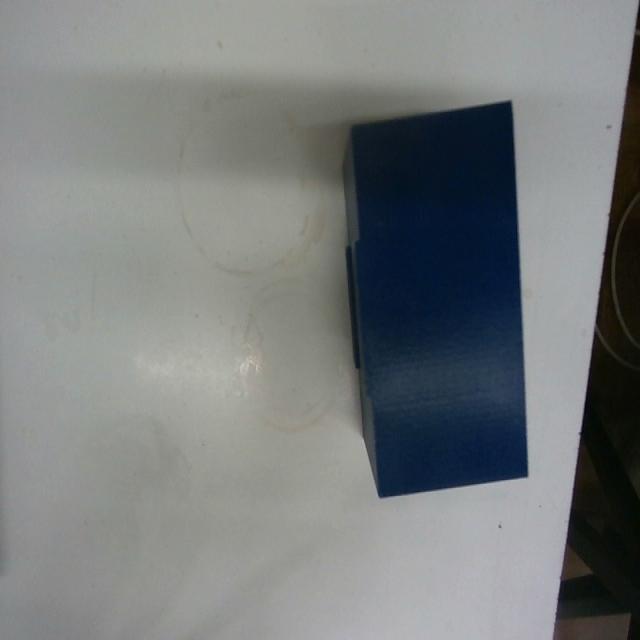Blue Cuboid: (339, 96, 530, 499)
